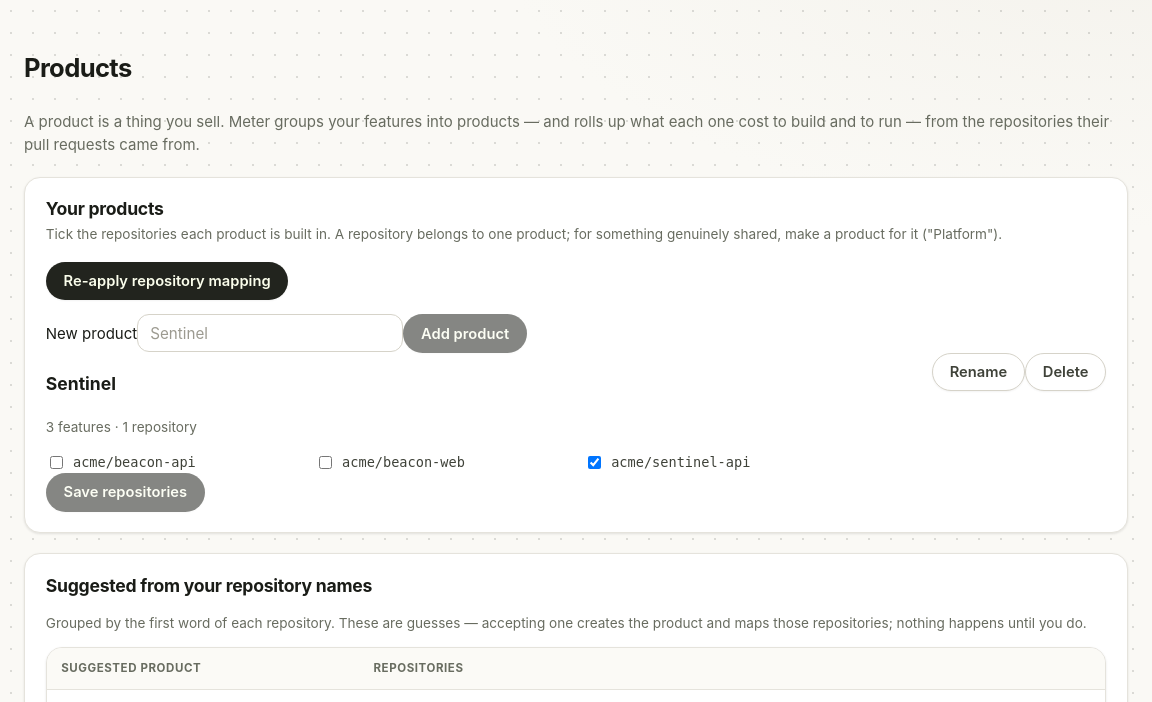
Test: Products › re-applies the mapping and says what changed
This screenshot has width=1152, height=702.
expect the heading "Sentinel" is shown: met, box left=46, top=373, right=116, bottom=394
Click the button "Re-apply repository mapping" at (167, 281), box left=46, top=262, right=288, bottom=300
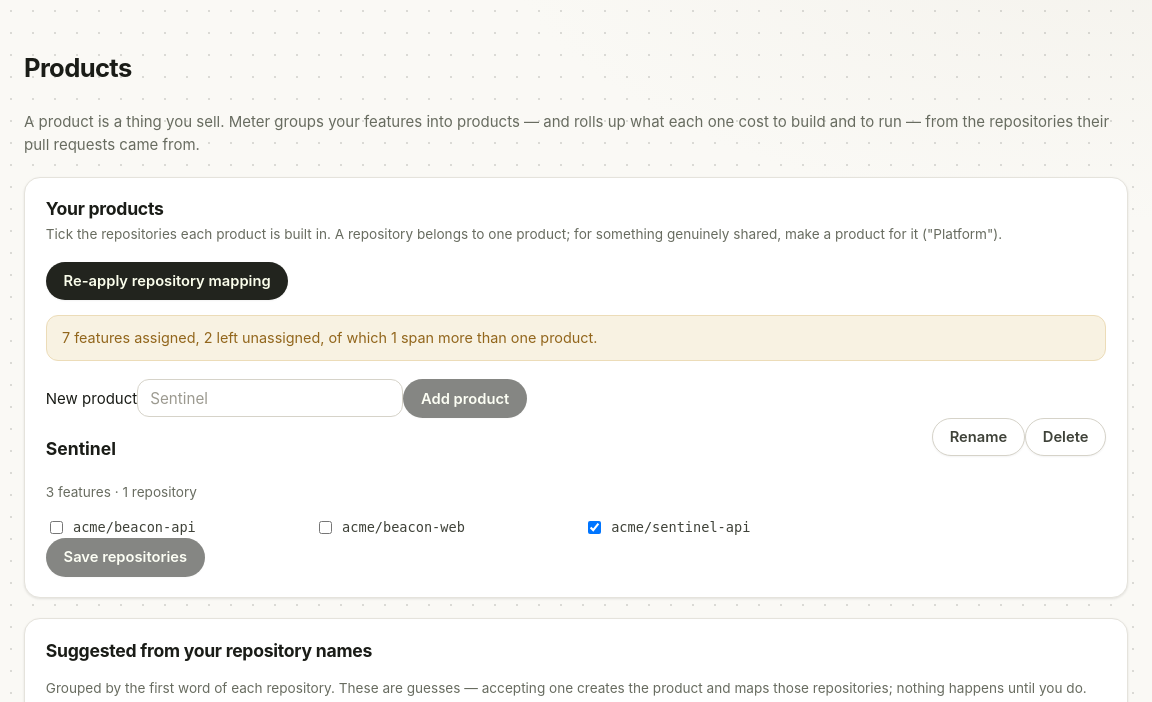
expect the text "7 features assigned, 2 left unassigned, of which 1 span" is shown: met, box left=46, top=315, right=1106, bottom=361
